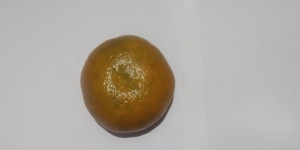BAD: (81, 33, 177, 138)
